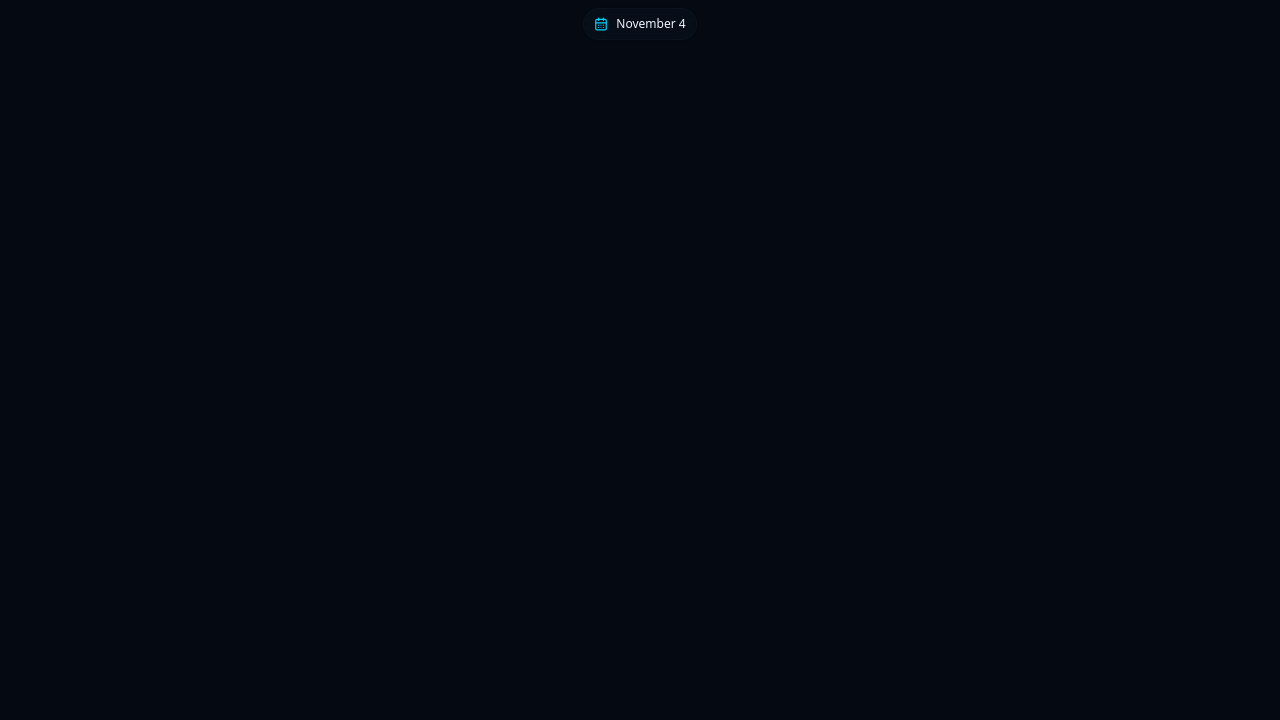
message calendar › enables server-provided message days and opens the first message of the chosen date
Click the button with aria-label "Jump to date".
click(640, 24)  # box [583,8,697,40]
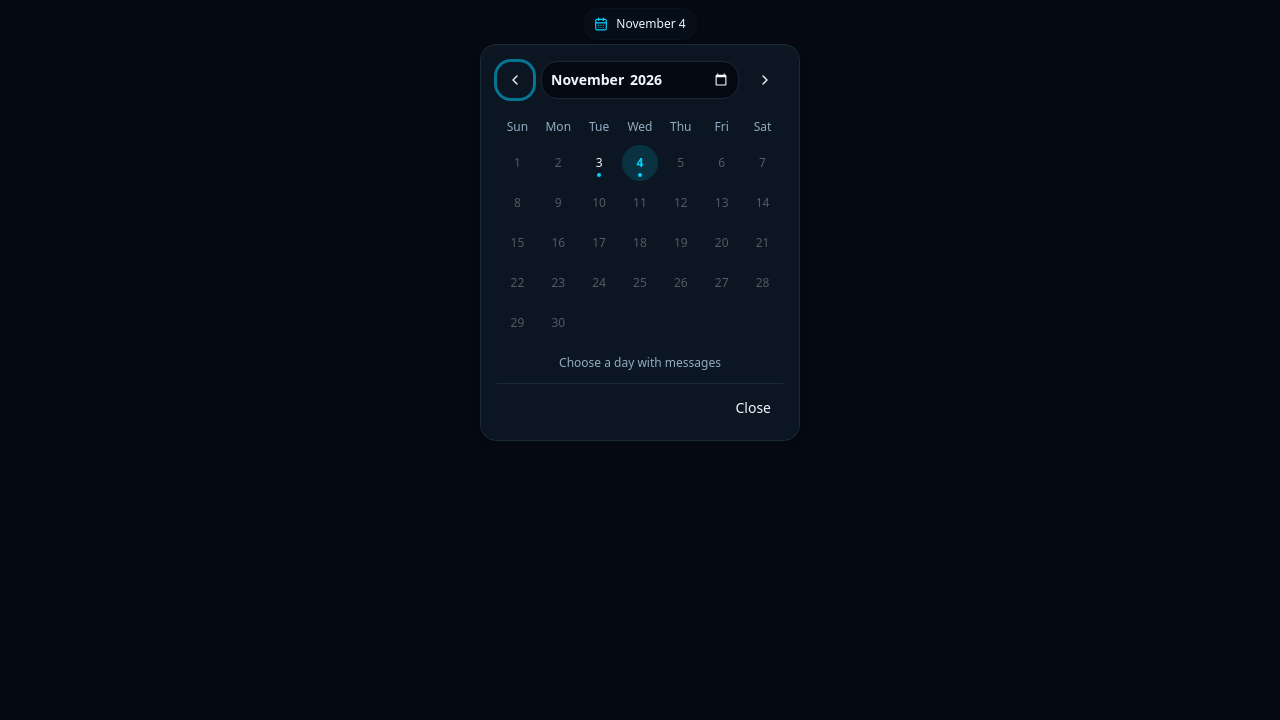
Click the button "3".
click(599, 163)  # box [581,145,617,181]
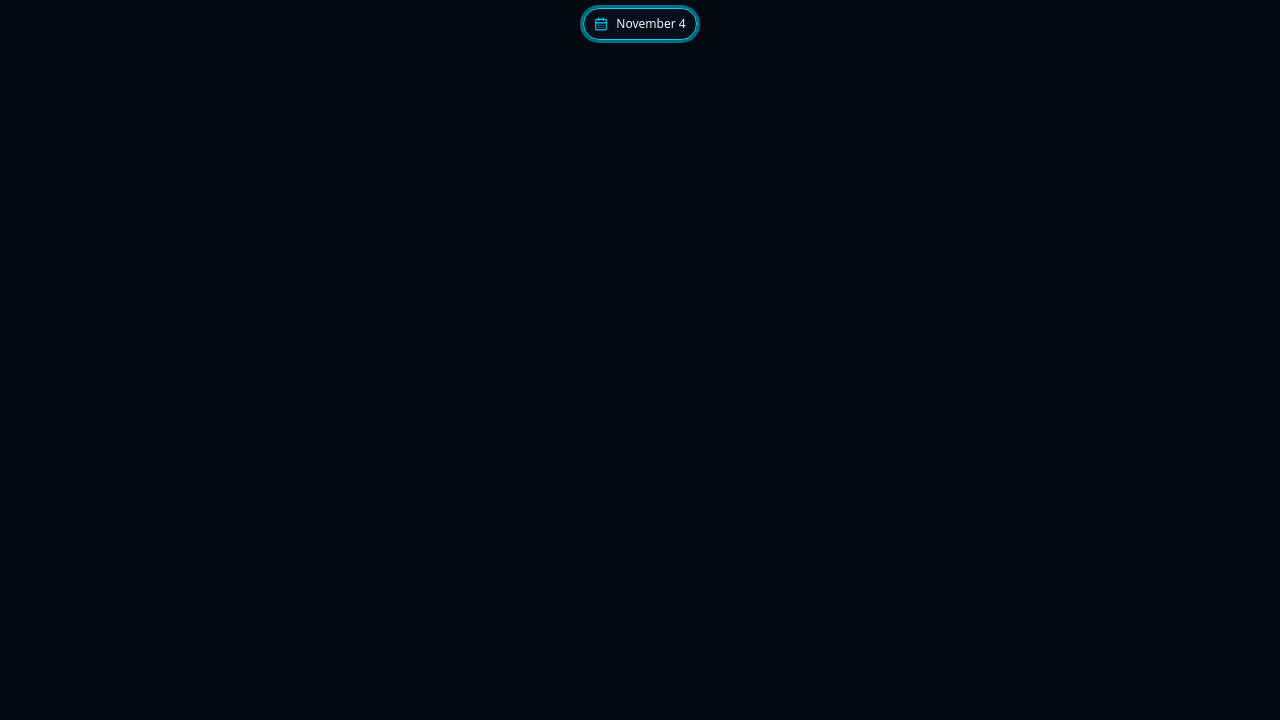
Expected: the button "Close" is gone
